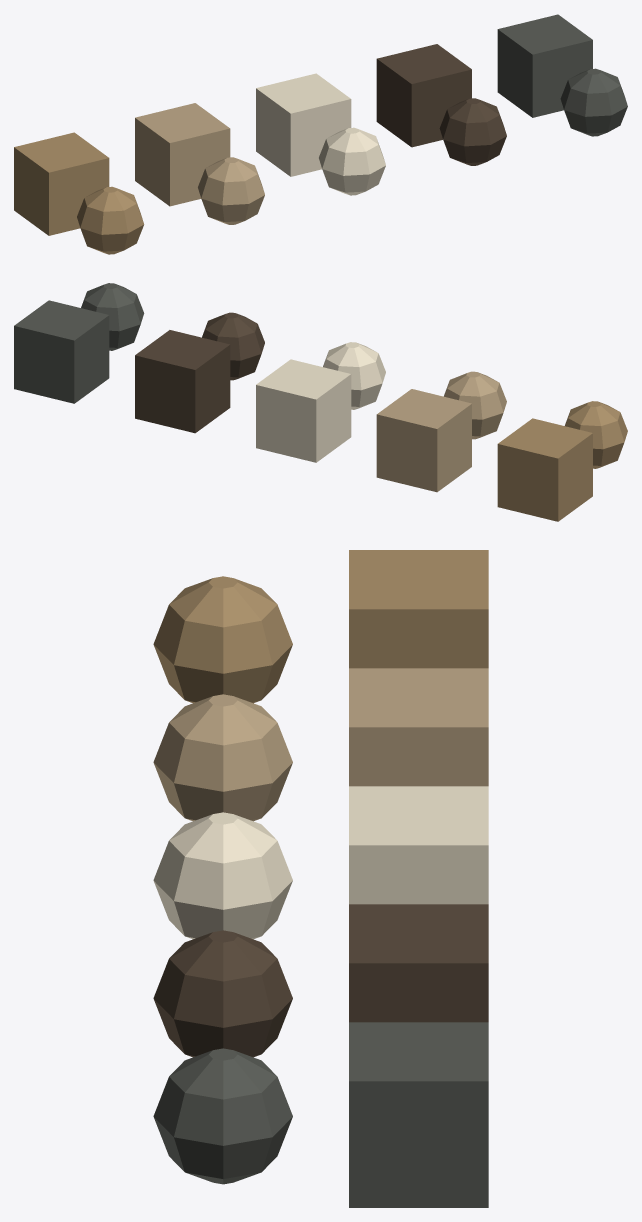
Rendered from lyref-A-LOD2.glb.
3 views of the same model, one above another, from view 1: azimuth 30°, elevation 25°; view 2: azimuth 150°, elevation 25°; view 3: azimuth 270°, elevation 25° (orthographic). The views are drawn at different scales.
Parts seen in each view (by area): view 1: lyref-A-static_timber, lyref-A-static_tile, lyref-A-static_earth, lyref-A-static_path, lyref-A-static_paper__stone; view 2: lyref-A-static_path, lyref-A-static_earth, lyref-A-static_tile, lyref-A-static_timber, lyref-A-static_paper__stone; view 3: lyref-A-static_tile, lyref-A-static_earth, lyref-A-static_path, lyref-A-static_timber, lyref-A-static_paper__stone.
Boxes of the visible parts, <box> form: lyref-A-static_timber: <box>376,44,506,165</box>; lyref-A-static_tile: <box>497,14,627,136</box>; lyref-A-static_earth: <box>14,132,144,254</box>; lyref-A-static_path: <box>135,103,264,224</box>; lyref-A-static_paper__stone: <box>256,73,385,195</box>; lyref-A-static_path: <box>376,371,506,492</box>; lyref-A-static_earth: <box>497,401,627,521</box>; lyref-A-static_tile: <box>14,283,144,403</box>; lyref-A-static_timber: <box>135,312,264,433</box>; lyref-A-static_paper__stone: <box>256,342,385,462</box>; lyref-A-static_tile: <box>153,1022,488,1207</box>; lyref-A-static_earth: <box>153,550,488,703</box>; lyref-A-static_path: <box>153,668,488,821</box>; lyref-A-static_timber: <box>153,904,488,1057</box>; lyref-A-static_paper__stone: <box>153,786,488,939</box>.
Bounding box in the file's own units: 9 × 1 × 2.4.
